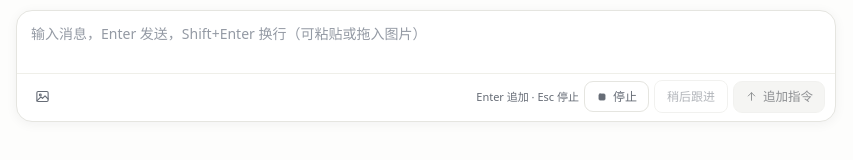
Test case: message queues and stopping › selects steer or follow-up and clears drafts only after acceptance
Type "change direction" into the text box.
click(426, 45); type("change direction")  # box left=31, top=21, right=821, bottom=69
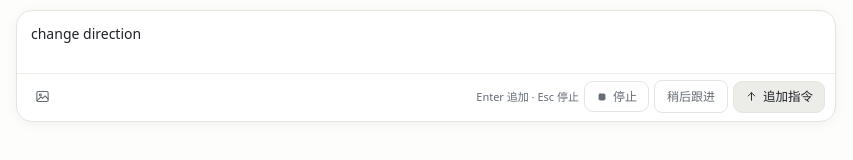
Click the button "追加指令".
click(779, 97)  # box left=733, top=81, right=825, bottom=113
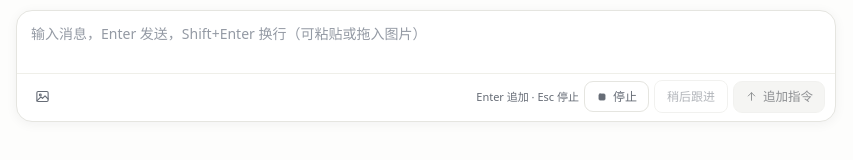
expect the text box is empty: met
Type "after this task" into the text box.
click(426, 45); type("after this task")  # box left=31, top=21, right=821, bottom=69
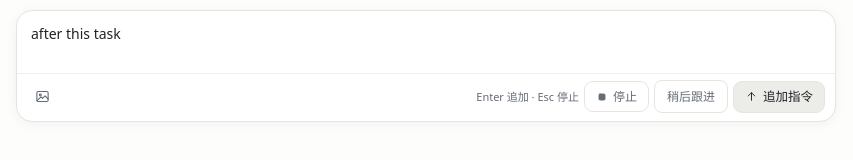
Click the button "稍后跟进".
click(691, 97)  # box left=654, top=80, right=728, bottom=113
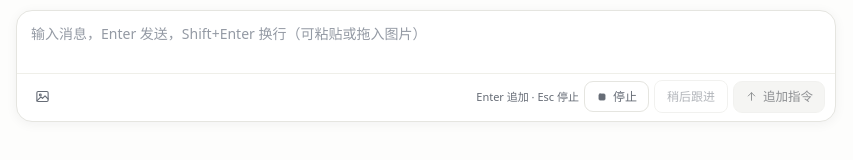
expect the text box is empty: met, box left=31, top=21, right=821, bottom=69
